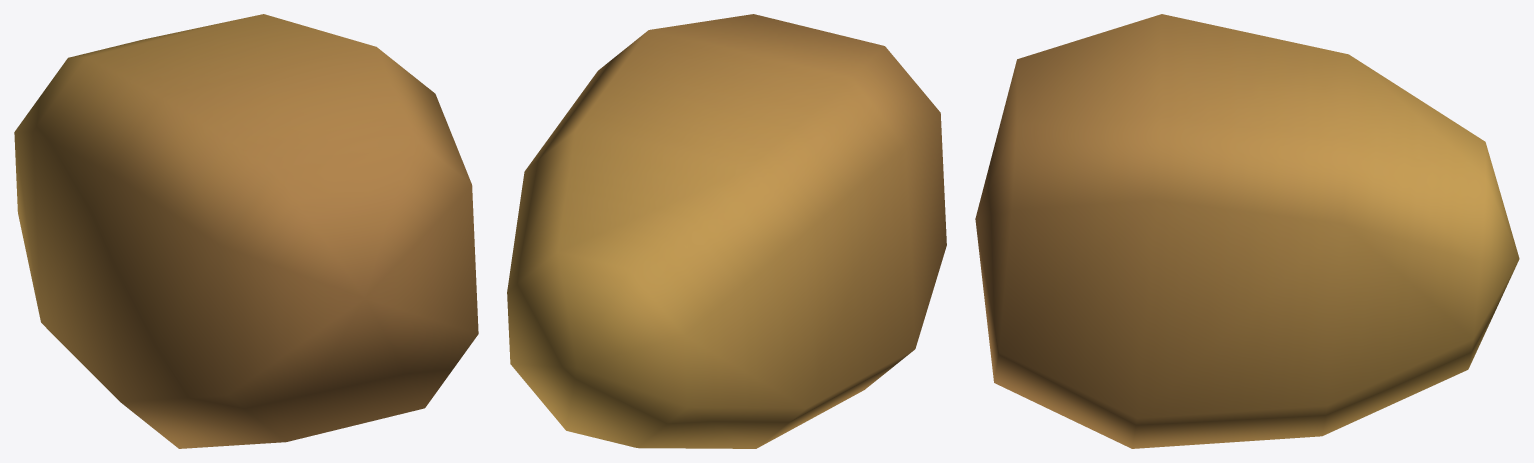
File: egg_brown.fbx
3 renders of one model, left to right at view 1: azimuth 30°, elevation 25°; view 2: azimuth 150°, elevation 25°; view 3: azimuth 270°, elevation 25°, orthographic. The views are drawn at different scales.
Visible parts, largest first — view 1: egg_brown; view 2: egg_brown; view 3: egg_brown.
Part boxes in pixels (x1,y1,x2,y2): egg_brown: [14, 14, 478, 448]; egg_brown: [507, 14, 946, 448]; egg_brown: [975, 14, 1519, 448].
Size of the model in its own units: 15 by 14.95 by 22.14.
